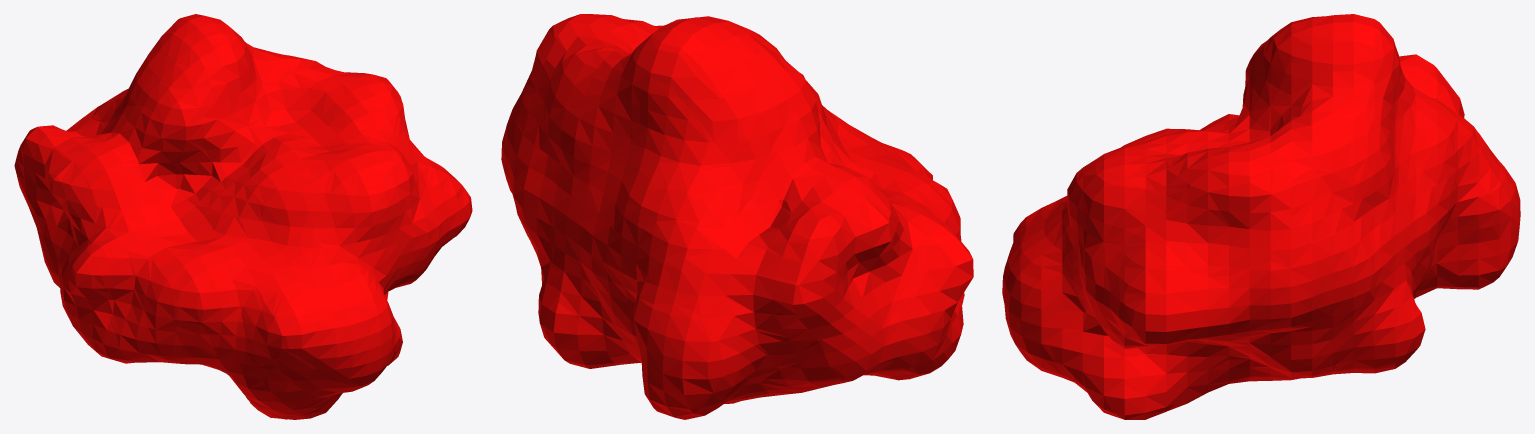
File: prkB_coarse.dae
The picture shows the model from 3 angles, left to right: view 1: azimuth 30°, elevation 25°; view 2: azimuth 150°, elevation 25°; view 3: azimuth 270°, elevation 25°; orthographic projection. The views are drawn at different scales.
Visible parts, largest first — view 1: prkB; view 2: prkB; view 3: prkB.
Part boxes in pixels (x1,y1,x2,y2): prkB: [14, 14, 472, 419]; prkB: [501, 14, 973, 419]; prkB: [1002, 14, 1520, 419].
Size of the model in its own units: 59.41 by 51.88 by 62.36.
